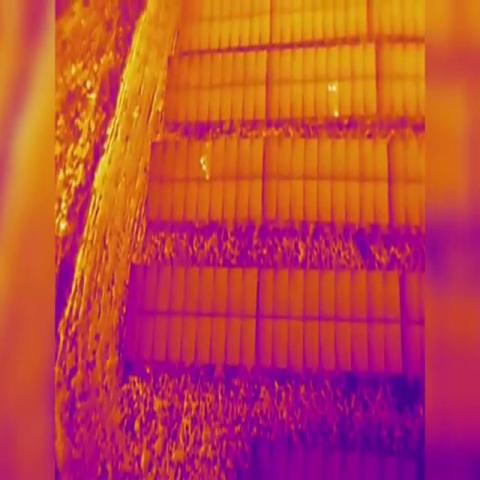fault: (198, 155, 206, 166), (205, 172, 211, 183), (332, 83, 338, 94), (332, 109, 338, 117), (202, 164, 208, 171), (328, 84, 332, 93)
